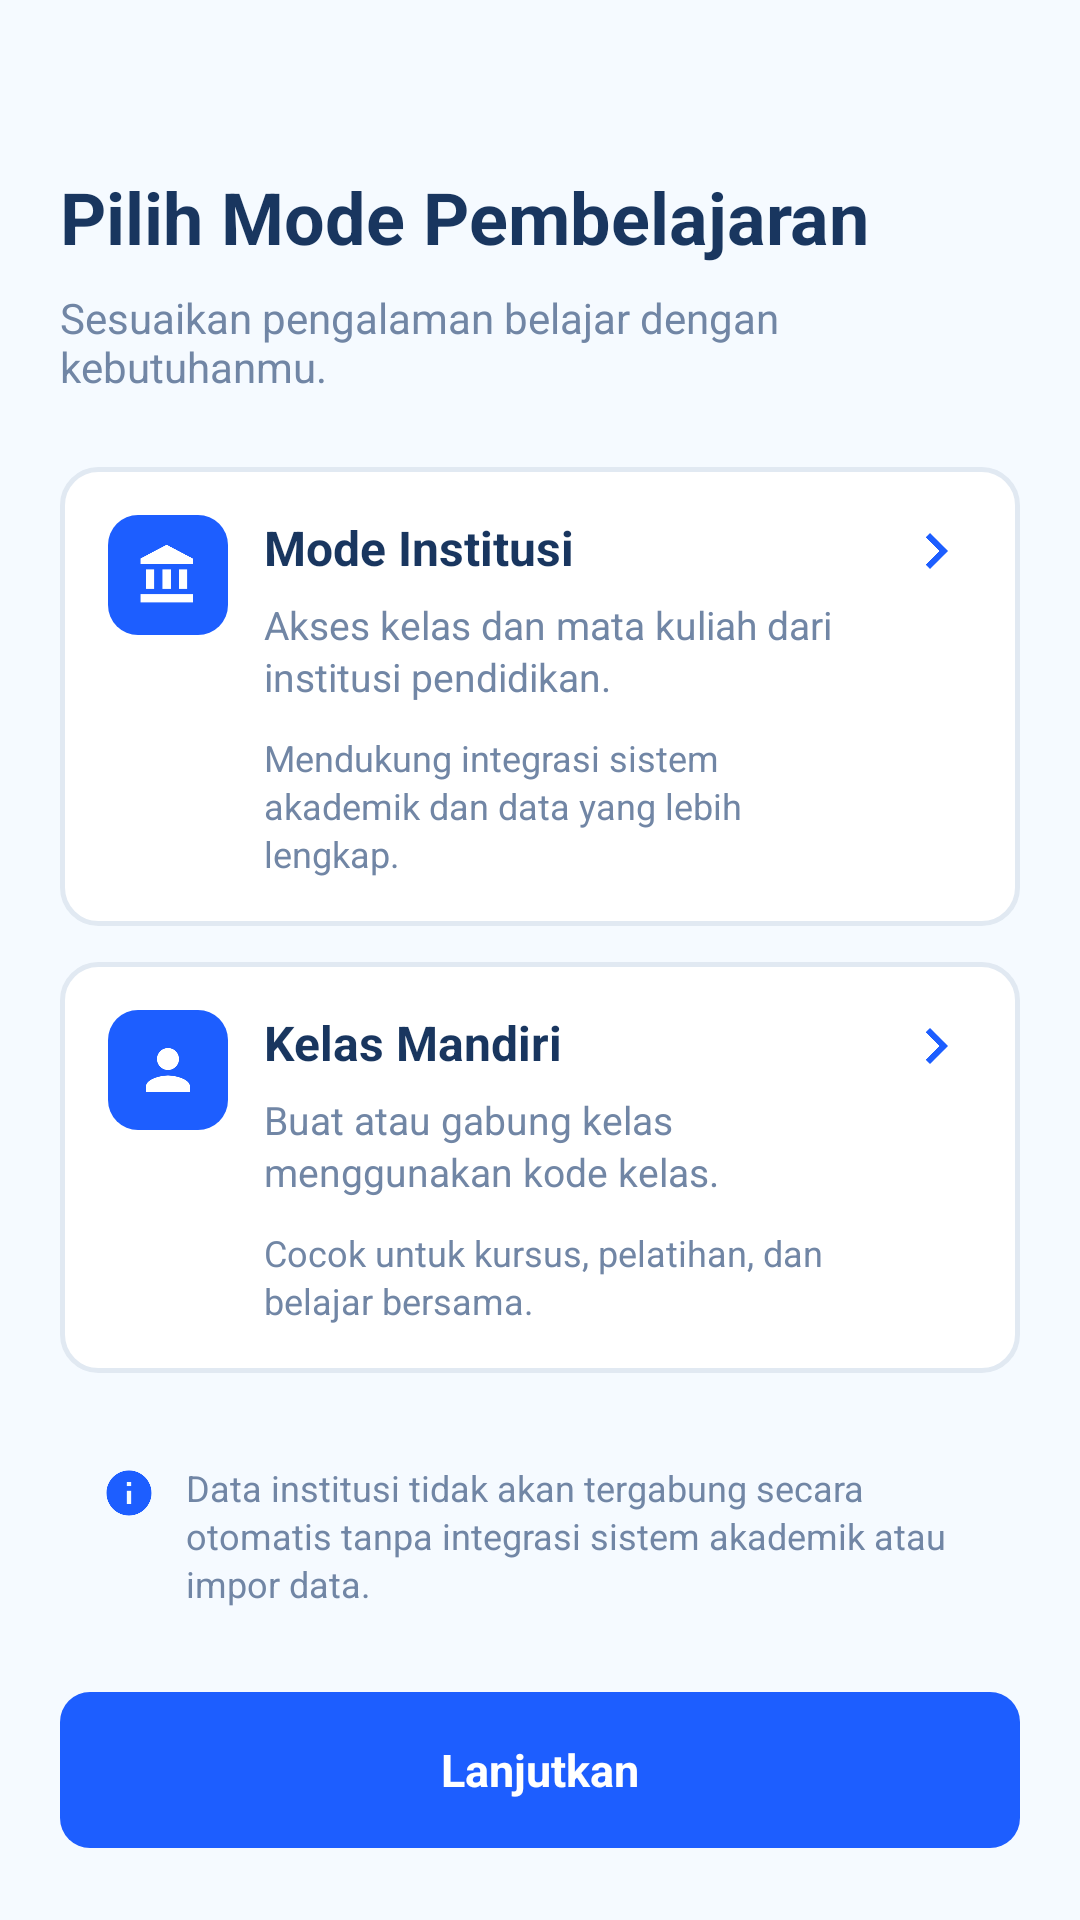

Screen size 1080x1920. Icon name, then its box in pixels as (x1, y1, x2, y2):
chevron right: (926, 533, 948, 569), (926, 1028, 948, 1064)
info: (106, 1470, 152, 1516)
institution: (140, 545, 193, 603)
person: (146, 1048, 190, 1092)
